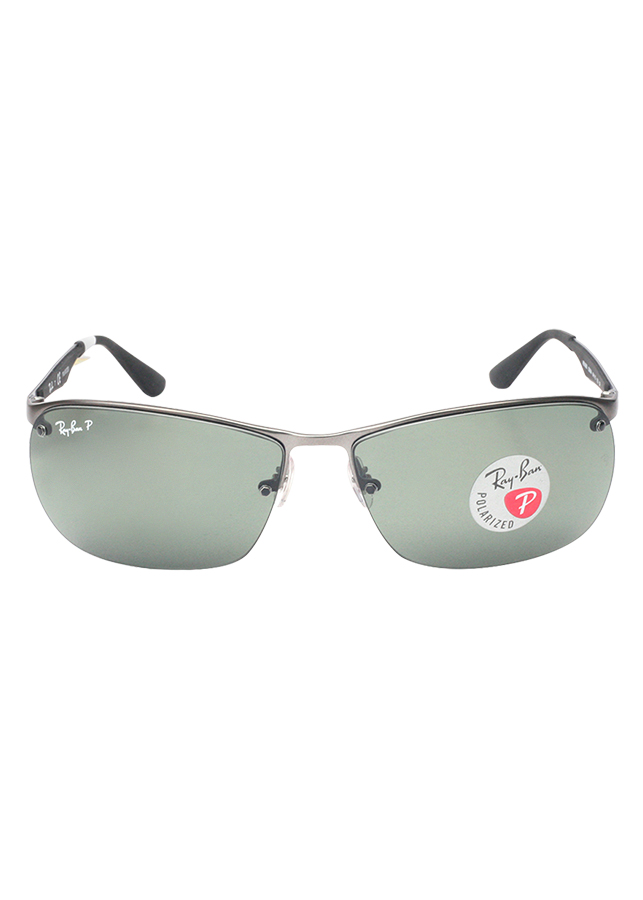Rayban: (483, 452, 549, 491), (45, 414, 87, 439)
